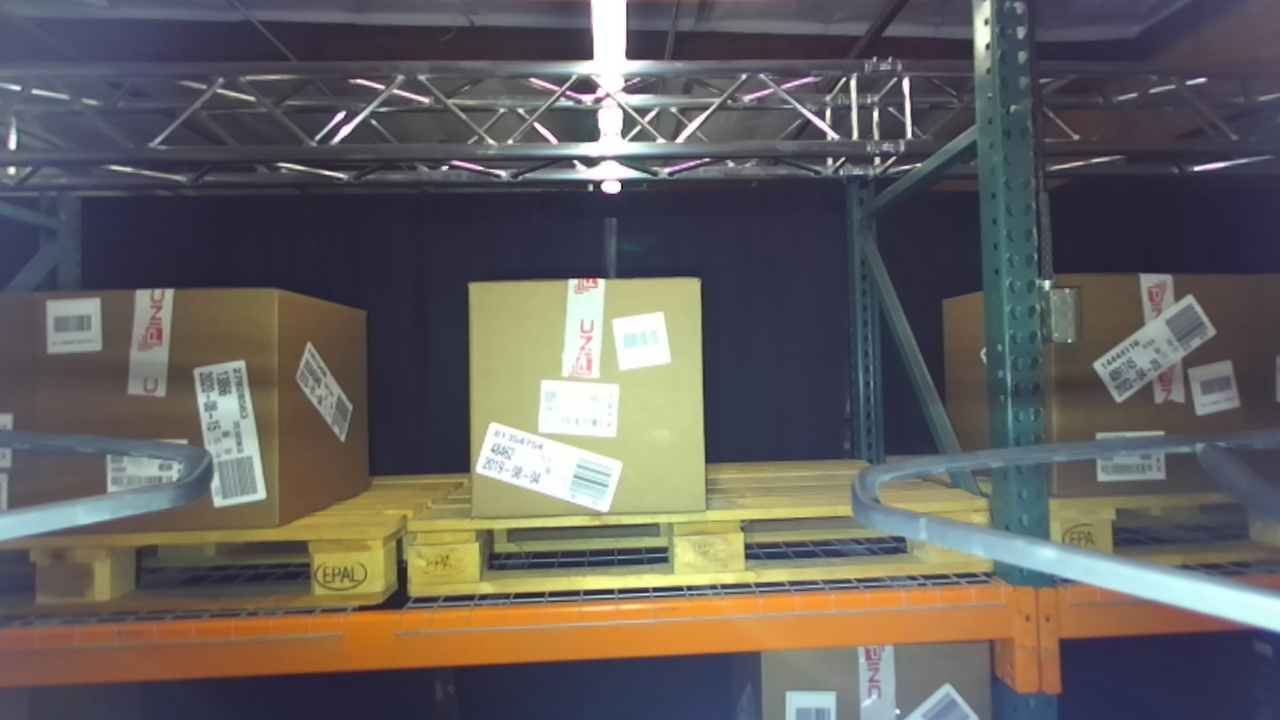box: (15, 264, 303, 555), (440, 254, 727, 529), (1034, 250, 1280, 513)
